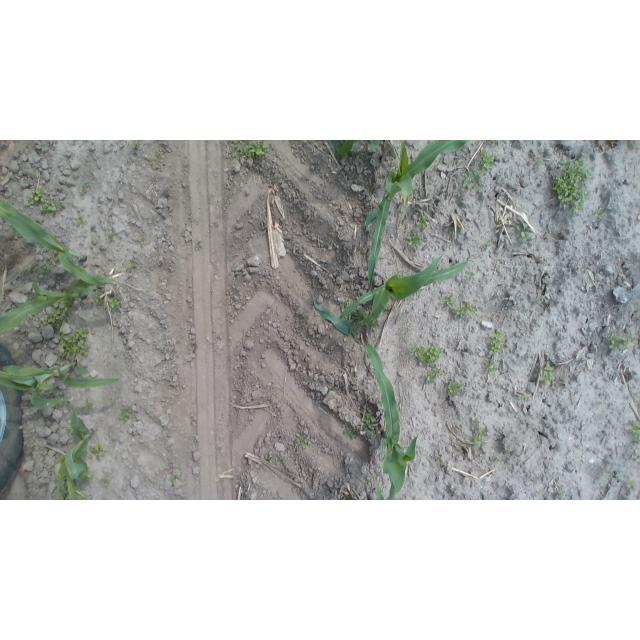Maize: (363, 141, 470, 296), (1, 201, 114, 288), (339, 254, 470, 327), (363, 342, 420, 500), (1, 276, 139, 337), (0, 360, 120, 410), (53, 401, 96, 500)
Weeds: (553, 156, 592, 216), (58, 328, 91, 359), (229, 141, 271, 163), (31, 188, 66, 214), (410, 341, 445, 367), (43, 302, 73, 328), (607, 333, 640, 352), (448, 300, 479, 318), (463, 167, 486, 190), (516, 220, 536, 244), (539, 361, 557, 386), (488, 331, 504, 356), (425, 367, 446, 385), (407, 231, 425, 250), (88, 443, 107, 461), (473, 426, 488, 448), (119, 405, 136, 422), (447, 380, 463, 397), (363, 413, 378, 431), (480, 151, 494, 170), (628, 420, 638, 445), (483, 358, 498, 374), (296, 432, 312, 446), (415, 215, 429, 231), (353, 306, 368, 320), (342, 428, 358, 441), (109, 296, 123, 310), (37, 260, 52, 273), (81, 399, 94, 411), (369, 317, 380, 331), (80, 470, 92, 482), (594, 207, 605, 220), (443, 294, 454, 307), (73, 216, 86, 227), (127, 258, 138, 270), (624, 479, 636, 490), (127, 140, 141, 149), (79, 185, 90, 196), (169, 475, 180, 486), (194, 240, 204, 252), (145, 156, 159, 164), (27, 262, 37, 273), (467, 271, 478, 281), (494, 455, 504, 466), (604, 470, 615, 480), (95, 290, 104, 302), (107, 230, 117, 240), (533, 157, 543, 167), (555, 491, 566, 500), (340, 301, 349, 311), (328, 385, 339, 393), (267, 458, 278, 466), (139, 236, 148, 245), (101, 479, 110, 488), (109, 437, 118, 446), (484, 240, 492, 249), (341, 493, 351, 500), (594, 400, 602, 408), (487, 141, 498, 146), (330, 231, 337, 238)
